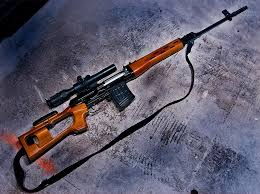gun: (12, 2, 248, 164)
